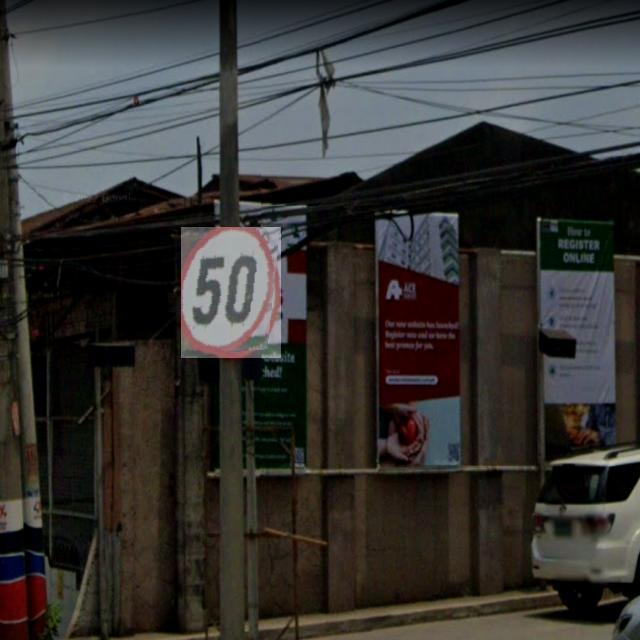50 kph: (181, 227, 281, 358)
